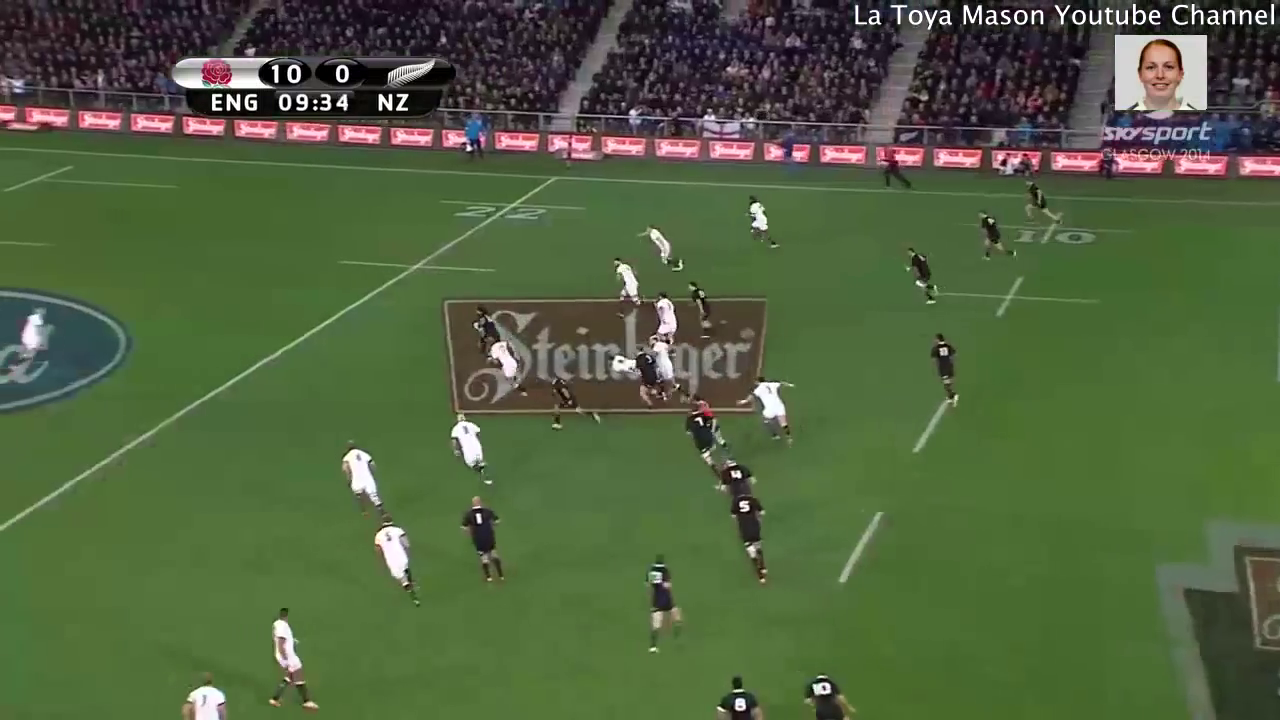10_metre: (933, 273, 1105, 324), (955, 206, 1138, 251)
ball: (468, 316, 484, 336)
player: (261, 605, 325, 716), (367, 513, 425, 613), (457, 492, 511, 587), (335, 434, 393, 522), (641, 552, 687, 657), (732, 376, 798, 448), (729, 485, 773, 586), (541, 372, 605, 435), (449, 410, 495, 489), (801, 668, 859, 720), (176, 670, 235, 720), (607, 255, 653, 319), (484, 336, 530, 399), (647, 332, 687, 401), (633, 222, 686, 274), (900, 244, 942, 308), (713, 672, 768, 720), (973, 207, 1020, 263), (682, 404, 719, 474), (928, 331, 962, 407), (740, 192, 783, 252), (1017, 175, 1064, 228), (692, 392, 728, 451), (682, 276, 715, 338), (713, 455, 762, 496), (627, 342, 658, 405), (603, 349, 637, 378)
